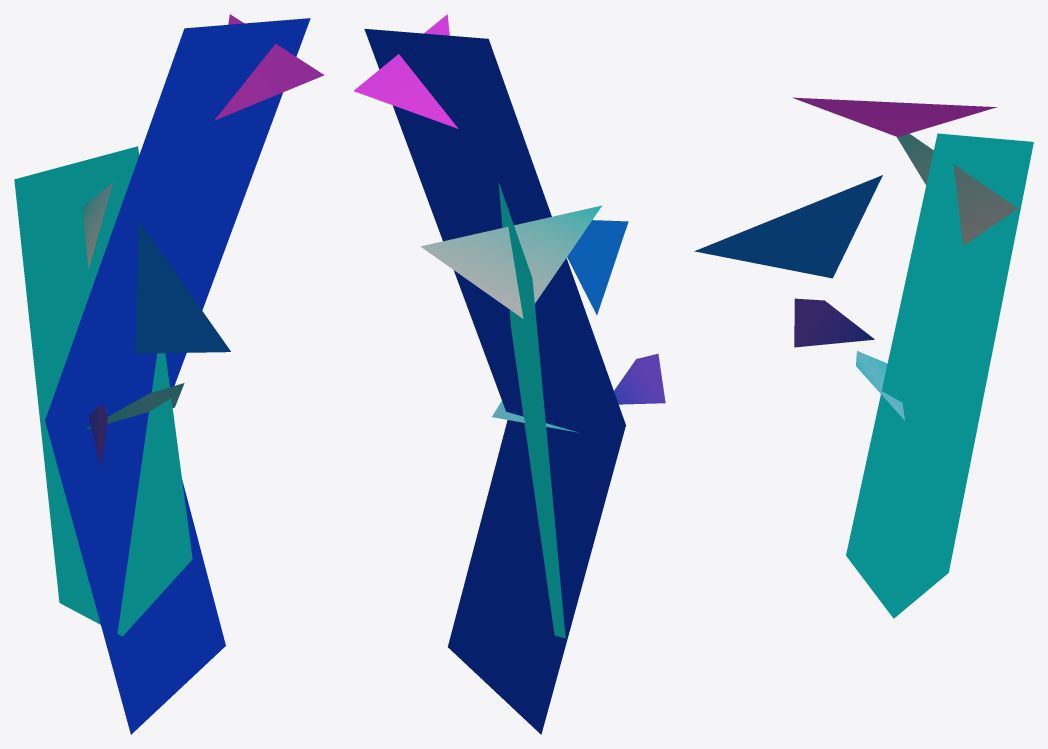
The model's file is Nordic_Coastal_Groundcover_vlqkdeaja_Mid_vlqkdeaja_VarI_LOD1.fbx.
The picture shows the model from 3 angles, left to right: view 1: azimuth 30°, elevation 25°; view 2: azimuth 150°, elevation 25°; view 3: azimuth 270°, elevation 25°; orthographic projection. The views are drawn at different scales.
Parts seen in each view (by area): view 1: _4rpl_VarI_LOD3; view 2: _4rpl_VarI_LOD3; view 3: _4rpl_VarI_LOD3.
Boxes of the visible parts, x1=… form: _4rpl_VarI_LOD3: x1=14, y1=14, x2=324, y2=734; _4rpl_VarI_LOD3: x1=354, y1=14, x2=665, y2=734; _4rpl_VarI_LOD3: x1=694, y1=97, x2=1033, y2=618.
Bounding box in the file's own units: 10.08 × 25.14 × 10.34.
